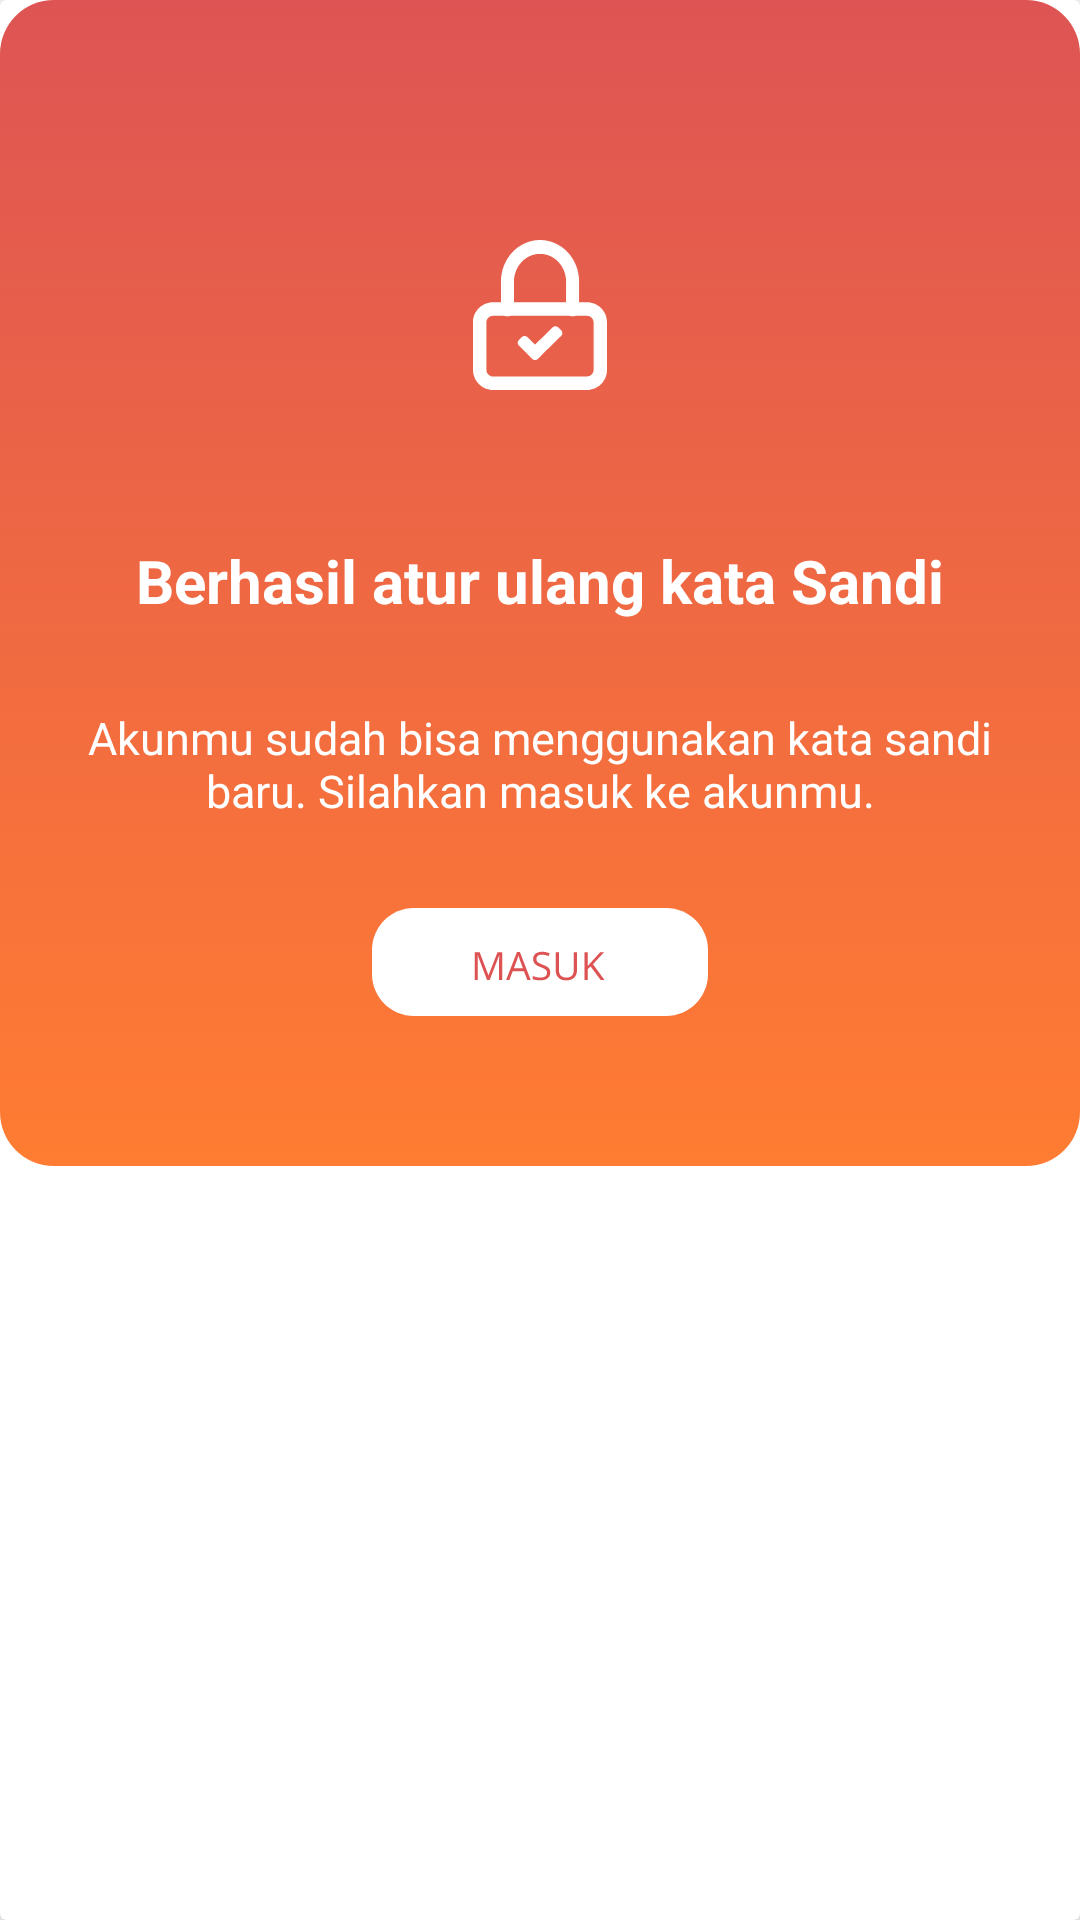

Screen size 1080px x 1920px. Icon name, then its center in pixels as [x,y]:
changepass: [540,315]
